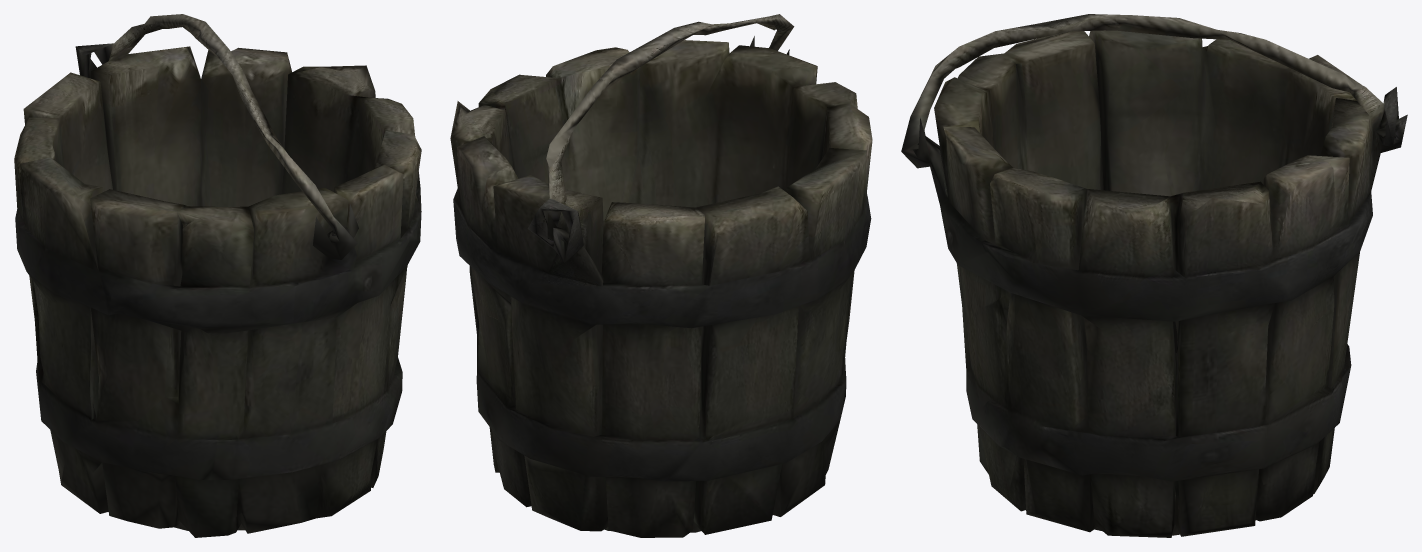
The model's file is bucket_wooden.glb.
3 renders of one model, left to right at view 1: azimuth 30°, elevation 25°; view 2: azimuth 150°, elevation 25°; view 3: azimuth 270°, elevation 25°, orthographic. The views are drawn at different scales.
Visible parts, largest first — view 1: tripo_node_d21bac07-e020-4b66-ba2a-5c31f420affe; view 2: tripo_node_d21bac07-e020-4b66-ba2a-5c31f420affe; view 3: tripo_node_d21bac07-e020-4b66-ba2a-5c31f420affe.
Boxes of the visible parts, bbox=[...] form: tripo_node_d21bac07-e020-4b66-ba2a-5c31f420affe: bbox=[14, 14, 421, 537]; tripo_node_d21bac07-e020-4b66-ba2a-5c31f420affe: bbox=[450, 14, 872, 537]; tripo_node_d21bac07-e020-4b66-ba2a-5c31f420affe: bbox=[901, 14, 1407, 537].
Bounding box in the file's own units: 0.8527 × 1 × 0.9898.
1 material, 1 textured.
